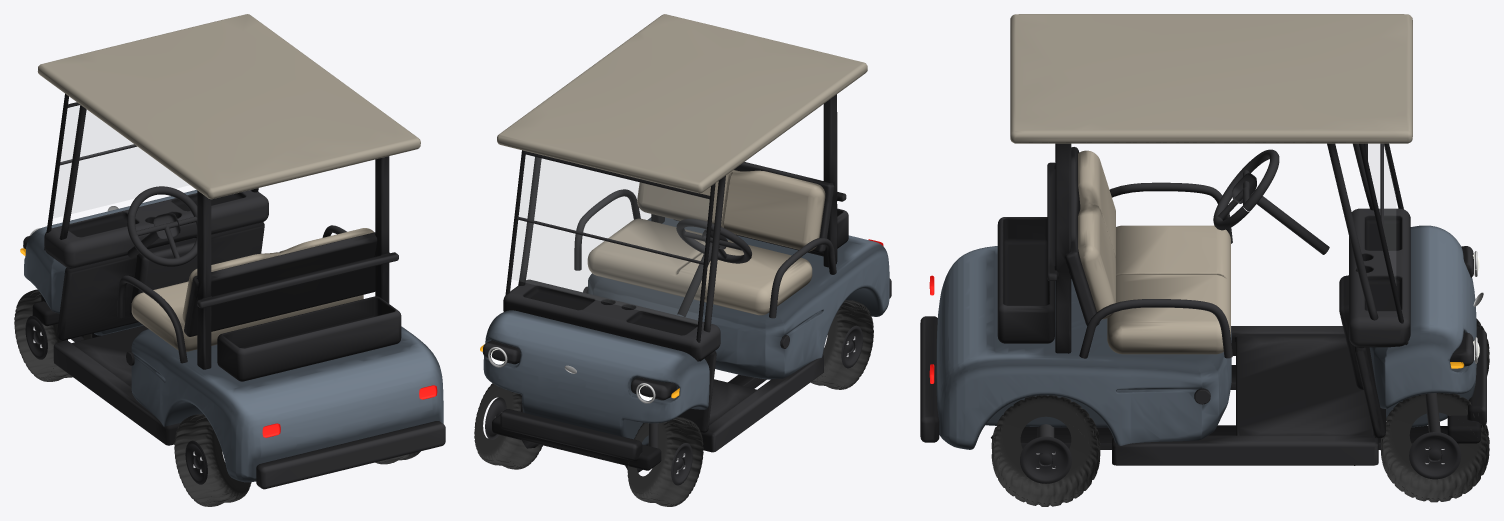
The model's file is golf_cart.glb.
3 views of the same model, side by side, from view 1: azimuth 30°, elevation 25°; view 2: azimuth 150°, elevation 25°; view 3: azimuth 270°, elevation 25° (orthographic). The views are drawn at different scales.
Parts seen in each view (by area): view 1: Body, Wheel_RL, Wheel_FL; view 2: Body, Wheel_FL, Wheel_RL, Wheel_FR; view 3: Body, Wheel_RR, Wheel_FR.
Boxes of the visible parts, x1,y1,x2,y2 form: Body: (20,14,445,489); Wheel_RL: (174,414,251,506); Wheel_FL: (14,289,92,381); Body: (480,14,891,472); Wheel_FL: (627,417,703,506); Wheel_RL: (810,300,873,389); Wheel_FR: (474,383,542,469); Body: (920,14,1486,465); Wheel_RR: (991,395,1100,506); Wheel_FR: (1380,393,1489,502).
Size of the model in its own units: 1.2 by 1.76 by 2.39.
